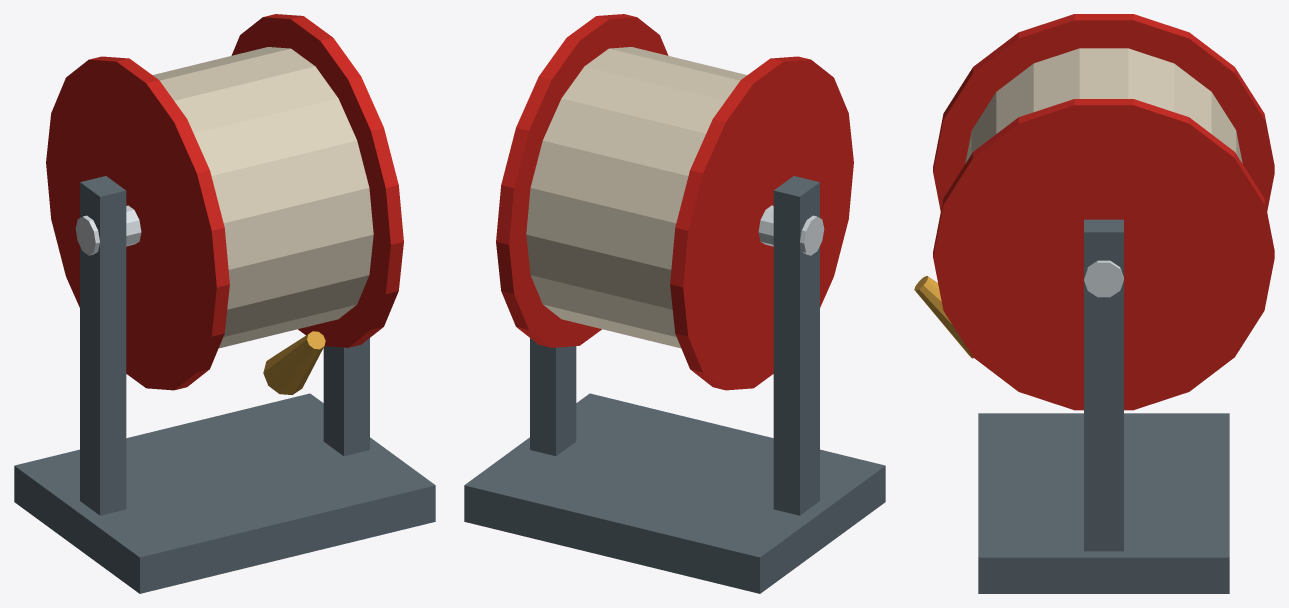
File: hose_reel.glb
3 views of the same model, side by side, from view 1: azimuth 30°, elevation 25°; view 2: azimuth 150°, elevation 25°; view 3: azimuth 270°, elevation 25° (orthographic).
Visible parts, largest first — view 1: ReelStandBase, CoiledHose, ReelFlange, ReelLeg, ReelFlange.001, ReelLeg.001, ReelNozzle, ReelAxle; view 2: ReelStandBase, CoiledHose, ReelFlange, ReelLeg, ReelFlange.001, ReelLeg.001, ReelAxle; view 3: ReelFlange.001, ReelStandBase, ReelFlange, ReelLeg.001, CoiledHose, ReelAxle, ReelNozzle.
Boxes of the visible parts, bbox=[...] form: ReelStandBase: bbox=[14, 393, 435, 593]; CoiledHose: bbox=[152, 47, 373, 348]; ReelFlange: bbox=[46, 56, 229, 390]; ReelLeg: bbox=[80, 176, 126, 515]; ReelFlange.001: bbox=[231, 14, 403, 347]; ReelLeg.001: bbox=[323, 338, 369, 455]; ReelNozzle: bbox=[263, 331, 325, 394]; ReelAxle: bbox=[75, 205, 141, 255]; ReelStandBase: bbox=[464, 393, 885, 593]; CoiledHose: bbox=[526, 47, 747, 348]; ReelFlange: bbox=[670, 56, 853, 390]; ReelLeg: bbox=[773, 176, 819, 515]; ReelFlange.001: bbox=[496, 14, 668, 347]; ReelLeg.001: bbox=[530, 338, 576, 455]; ReelAxle: bbox=[758, 205, 824, 255]; ReelFlange.001: bbox=[933, 99, 1274, 410]; ReelStandBase: bbox=[978, 413, 1229, 593]; ReelFlange: bbox=[933, 14, 1274, 211]; ReelLeg.001: bbox=[1084, 219, 1123, 551]; CoiledHose: bbox=[965, 48, 1242, 163]; ReelAxle: bbox=[1084, 260, 1123, 297]; ReelNozzle: bbox=[914, 276, 973, 358].
Bounding box in the file's own units: 0.68 × 1.01 × 0.7178.
